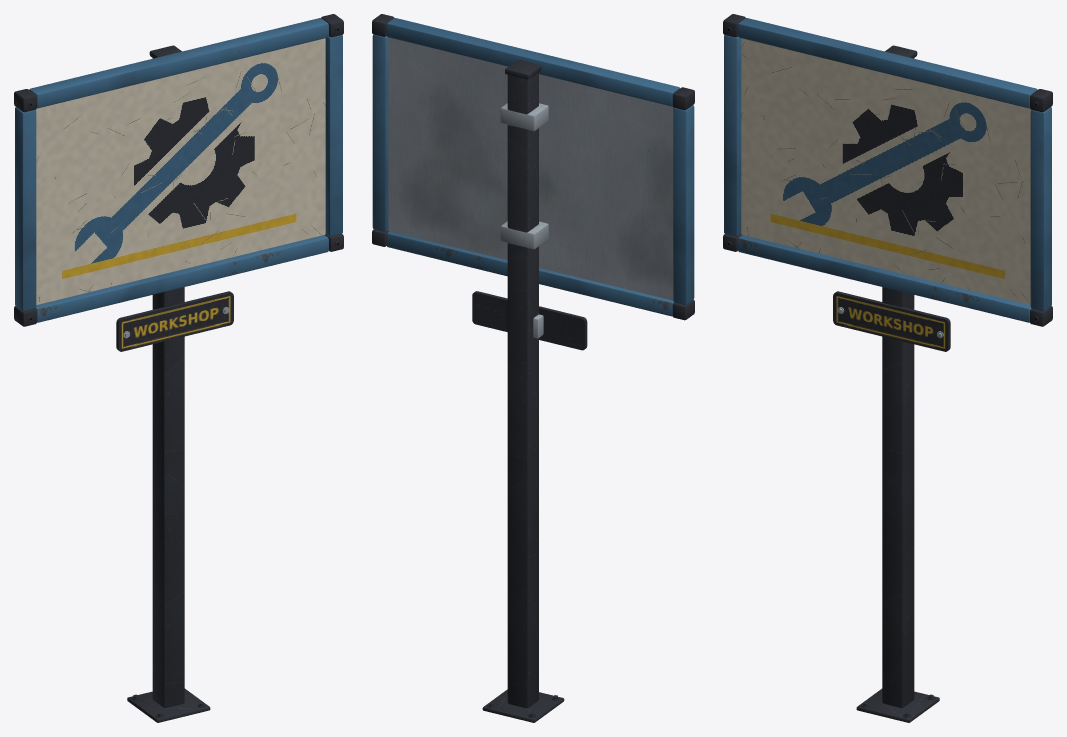
The model's file is outpost_sign.glb.
3 views of the same model, side by side, from view 1: azimuth 30°, elevation 25°; view 2: azimuth 150°, elevation 25°; view 3: azimuth 330°, elevation 25° (orthographic). The views are drawn at different scales.
Parts seen in each view (by area): view 1: WorkshopSignMesh; view 2: WorkshopSignMesh; view 3: WorkshopSignMesh.
Boxes of the visible parts, left/top/right/bottom form: WorkshopSignMesh: left=14, top=14, right=343, bottom=722; WorkshopSignMesh: left=372, top=14, right=694, bottom=722; WorkshopSignMesh: left=723, top=14, right=1052, bottom=722.
Bounding box in the file's own units: 0.724 × 1.42 × 0.1218.
Materials: 6 (5 with a texture image).
